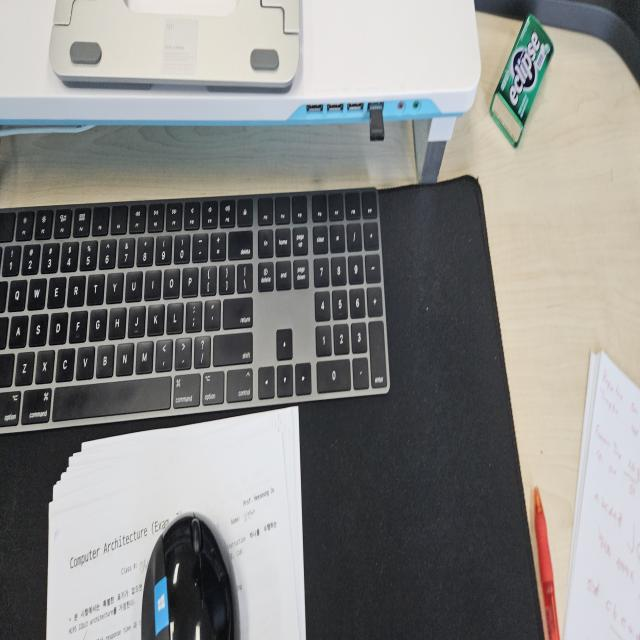Keyboard: (0, 186, 391, 434)
Mouse: (139, 511, 235, 637)
